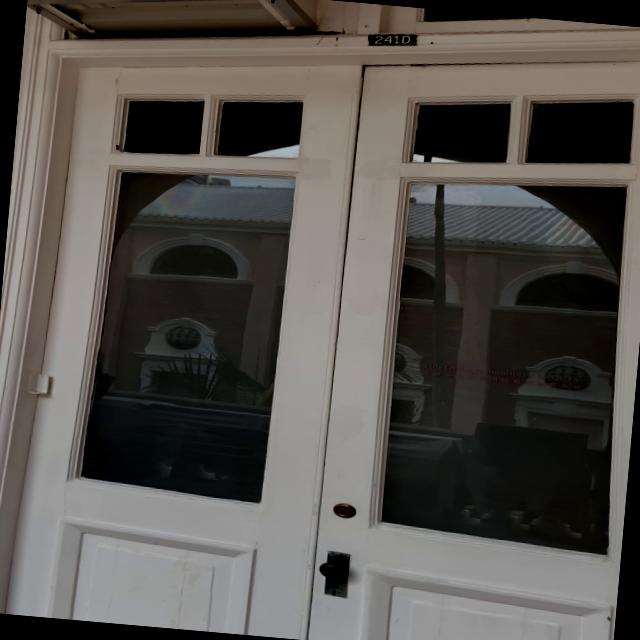room241d: (363, 27, 420, 52)
